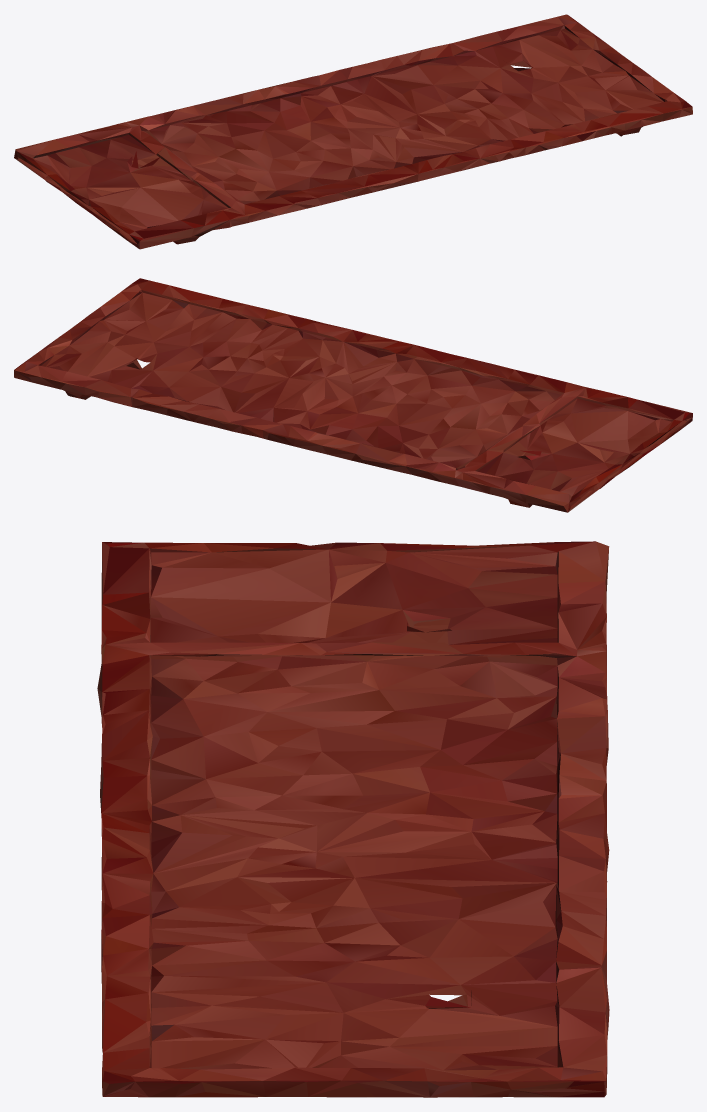
File: stand.glb
3 views of the same model, one above another, from view 1: azimuth 30°, elevation 25°; view 2: azimuth 150°, elevation 25°; view 3: azimuth 270°, elevation 25° (orthographic). The views are drawn at different scales.
Parts seen in each view (by area): view 1: geometry_0; view 2: geometry_0; view 3: geometry_0.
Part boxes in pixels (x1,y1,x2,y2): geometry_0: (14,14,692,249); geometry_0: (14,278,692,512); geometry_0: (97,541,609,1097).
Size of the model in its own units: 0.9 by 0.0375 by 0.36.
Materials: 1 (1 with a texture image).
